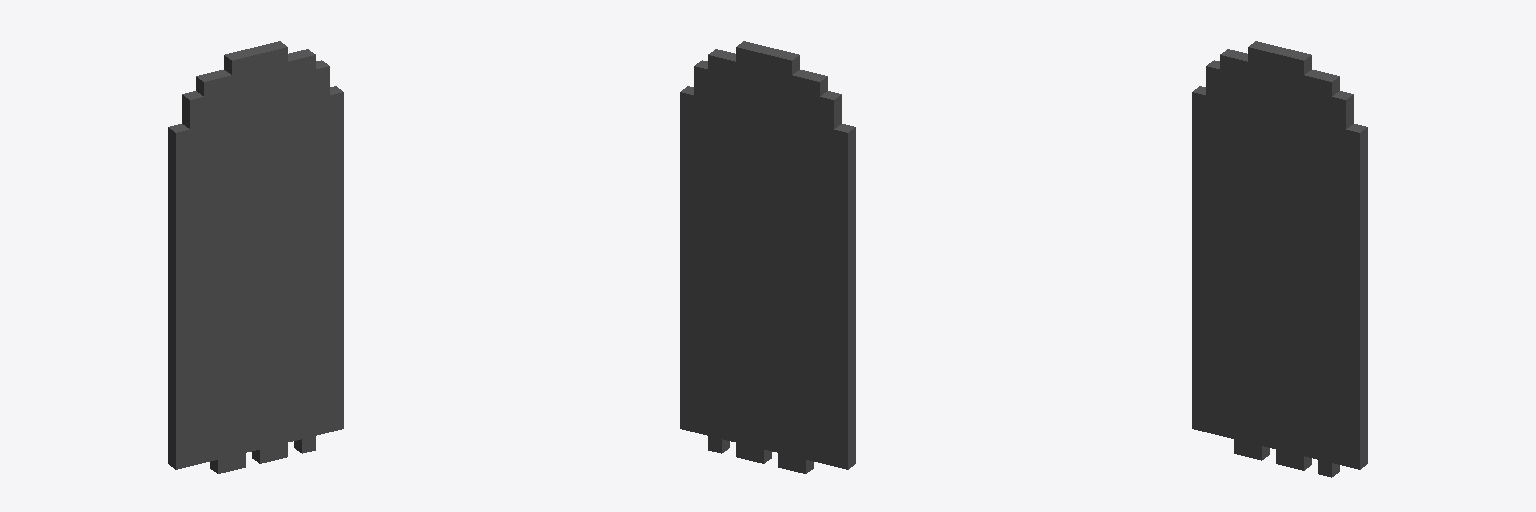
3 renders of one model, left to right at view 1: azimuth 30°, elevation 25°; view 2: azimuth 150°, elevation 25°; view 3: azimuth 330°, elevation 25°, orthographic.
Parts seen in each view (by area): view 1: object 1; view 2: object 1; view 3: object 1.
Boxes of the visible parts, x1,y1,x2,y2 form: object 1: [168, 41, 343, 473]; object 1: [680, 41, 855, 473]; object 1: [1192, 41, 1367, 477].
Size of the model in its own units: 1.2 by 2.8 by 0.1.
Materials: 1 (1 with a texture image).